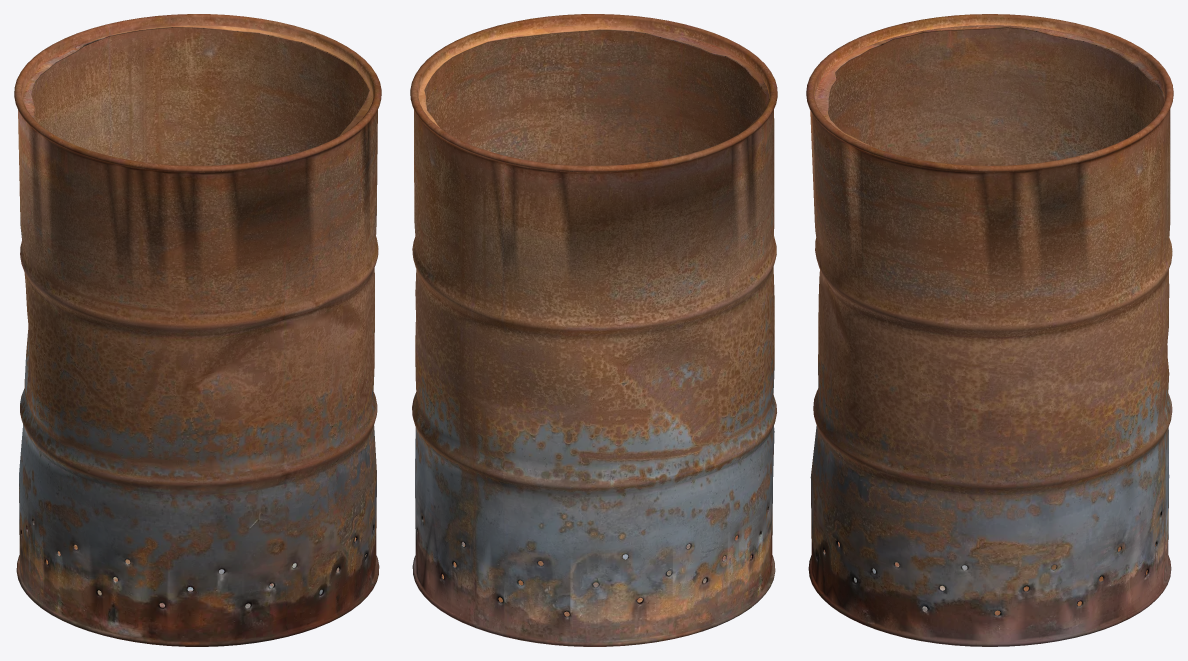
The model's file is barrel_stove.glb.
The picture shows the model from 3 angles, left to right: view 1: azimuth 30°, elevation 25°; view 2: azimuth 150°, elevation 25°; view 3: azimuth 270°, elevation 25°; orthographic projection.
Visible parts, largest first — view 1: barrel_stove; view 2: barrel_stove; view 3: barrel_stove.
Boxes of the visible parts, x1,y1,x2,y2 form: barrel_stove: (14, 14, 381, 646); barrel_stove: (410, 14, 777, 646); barrel_stove: (806, 14, 1173, 646).
Size of the model in its own units: 0.5925 by 0.8556 by 0.5925.
Materials: 1 (1 with a texture image).
